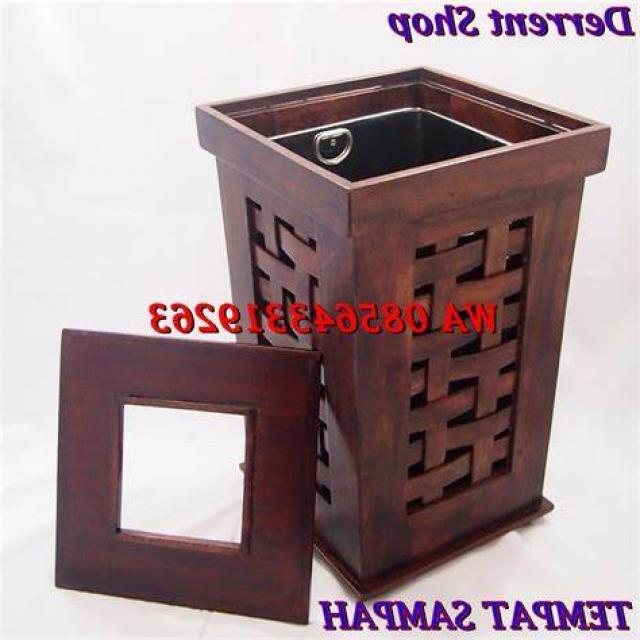garbage container: (65, 61, 626, 578)
